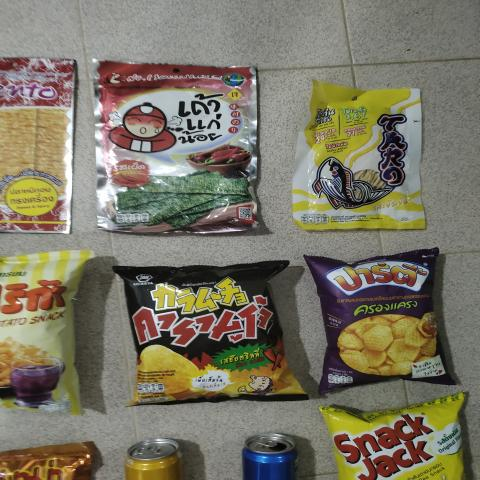karamujo: (140, 268, 282, 390)
party_purple: (314, 256, 444, 380)
snack_jack: (321, 404, 477, 480)
taokaenoi: (103, 61, 263, 226)
taro_yellow: (296, 86, 422, 228)
